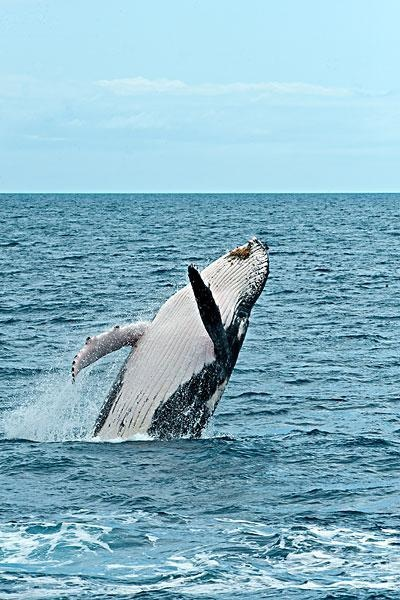fish: (66, 234, 279, 446)
